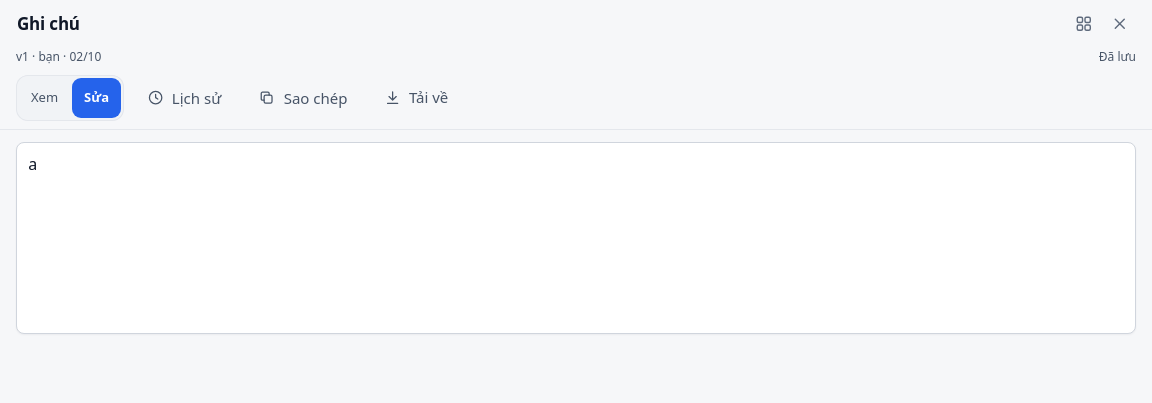
Test case: the notices over a canvas › says when this device cannot keep the typing as a draft
Replace the text in the text box named "Nội dung canvas" with "ab": {"x": 576, "y": 238} [16,142,1136,334]
Wait 300 ms
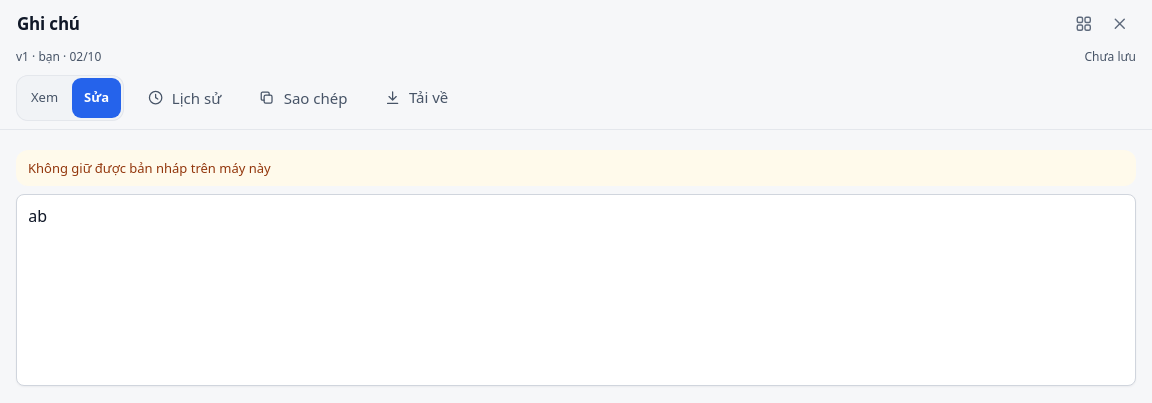
expect the text "Không giữ được bản nháp trên máy này" is shown: met, box [16,150,1136,186]
